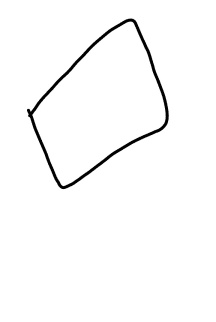Square: (23, 15, 174, 192)
